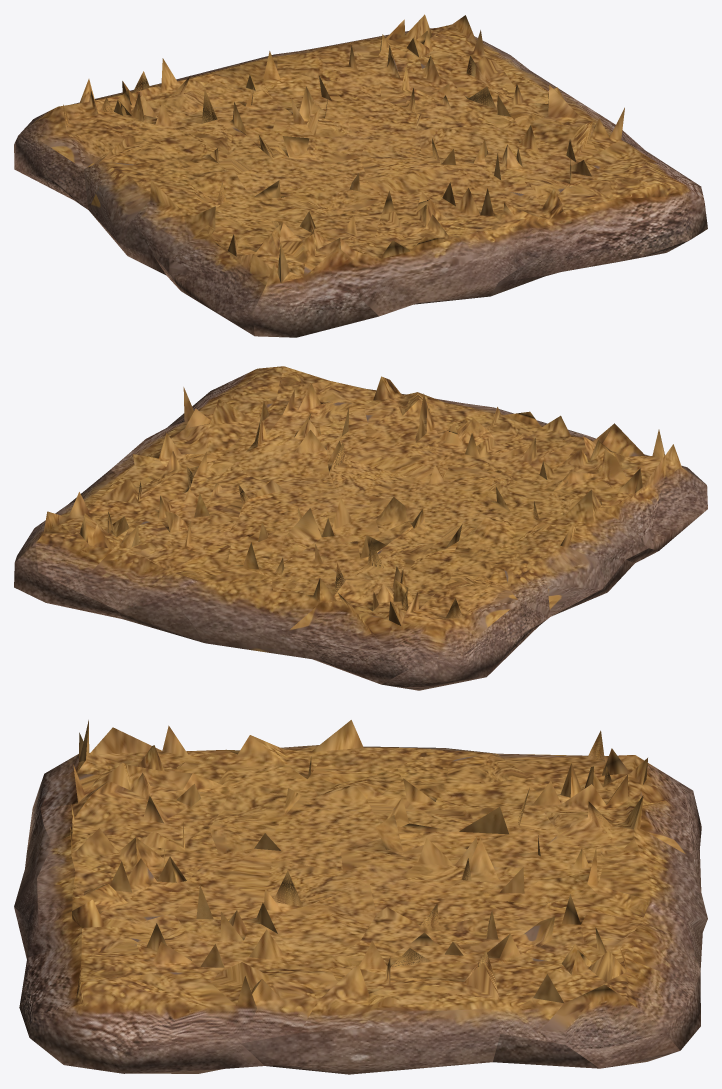
The model's file is GrainPlot.glb.
3 views of the same model, one above another, from view 1: azimuth 30°, elevation 25°; view 2: azimuth 150°, elevation 25°; view 3: azimuth 270°, elevation 25° (orthographic). The views are drawn at different scales.
Visible parts, largest first — view 1: GrainPlot; view 2: GrainPlot; view 3: GrainPlot.
Boxes of the visible parts, x1,y1,x2,y2 form: GrainPlot: (14, 14, 707, 337); GrainPlot: (14, 366, 707, 690); GrainPlot: (14, 720, 707, 1074).
Bounding box in the file's own units: 0.9894 × 0.231 × 0.9967.
1 material, 1 textured.
